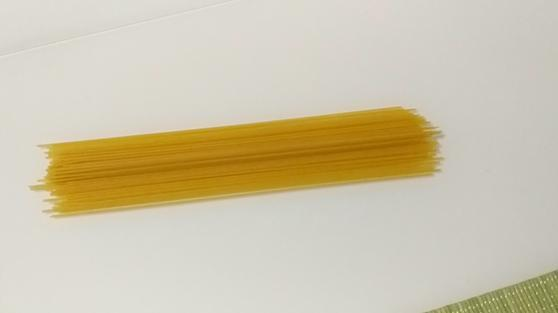spaghetti: (16, 91, 458, 253)
